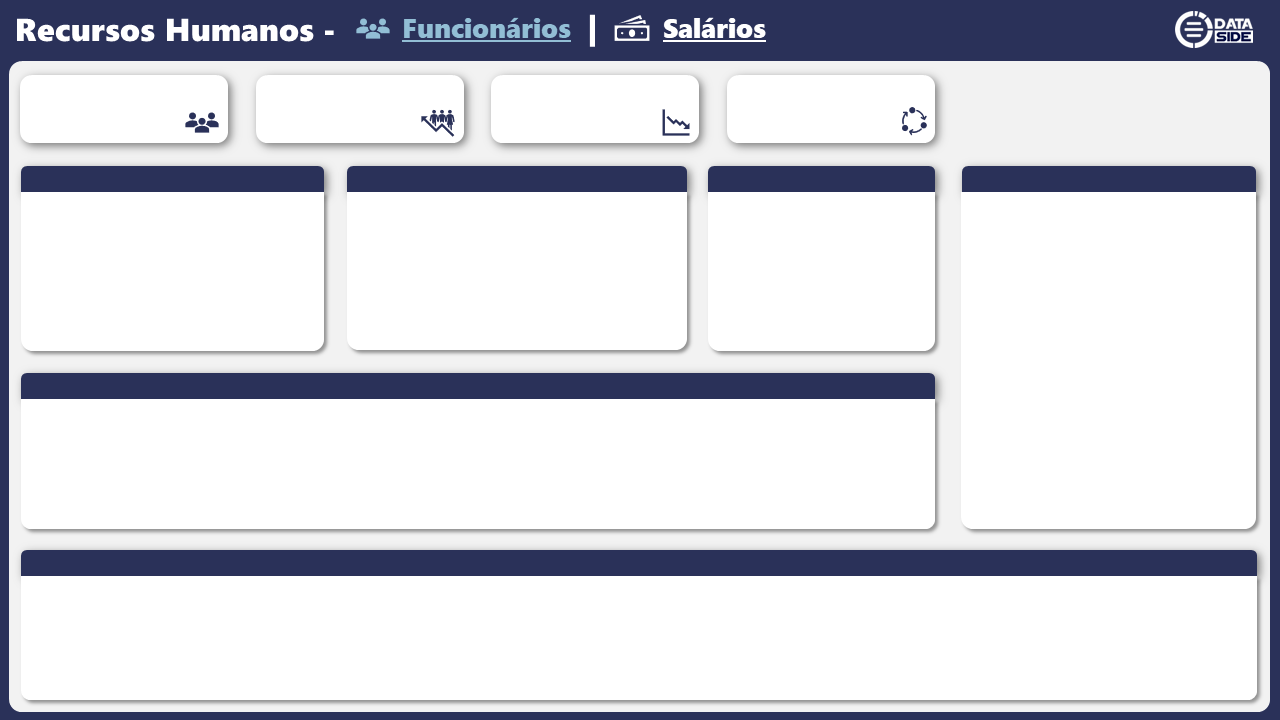

Layout of this report page (visuals, bound fields, positions):
{"tool":"powerbi","page":{"name":"RH - Funcionários","canvas":[1280,720],"ordinal":0},"visuals":[{"type":"slicer","fields":{"Values":["Calendario.Nome do Mês"]},"box":[955,75,160,59.5],"z":0},{"type":"slicer","fields":{"Values":["Calendario.Ano"]},"box":[1119.9,75,140.4,60],"z":1000},{"type":"multiRowCard","fields":{"Values":["Medidas.Total Funcionarios"]},"box":[25,72,200,70],"z":2000},{"type":"clusteredColumnChart","fields":{"Category":["Funcionarios.Setor"],"Y":["Medidas.Total Funcionarios"]},"box":[20.4,392,915,135],"z":3000},{"type":"pieChart","fields":{"Category":["Funcionarios.Gênero"],"Y":["Medidas.Total Funcionarios"]},"box":[20,188,302,160],"z":4000},{"type":"clusteredBarChart","fields":{"Category":["Funcionarios.Escolaridade"],"Y":["Medidas.Total Funcionarios"]},"box":[960,186,296,340.4],"z":5000},{"type":"lineClusteredColumnComboChart","fields":{"Category":["Calendario.Nome do Mês"],"Y":["Medidas.Total Admissoes","Medidas.Total Desligamentos"],"Y2":["Medidas.Total Funcionarios"]},"box":[22,568,1235,130],"z":6000},{"type":"multiRowCard","fields":{"Values":["Medidas.Total Admissoes"]},"box":[260,72,200,70.2],"z":7000},{"type":"multiRowCard","fields":{"Values":["Medidas.Total Desligamentos"]},"box":[495,72,200,70.2],"z":8000},{"type":"textbox","box":[20,162,302,30],"z":9000},{"type":"textbox","box":[20,368,915,30],"z":10000},{"type":"textbox","box":[20,545,1240,30],"z":11000},{"type":"textbox","box":[346,162,340,29.8],"z":12000},{"type":"textbox","box":[960,162,295,29.8],"z":13000},{"type":"multiRowCard","fields":{"Values":["Medidas.TurnOver"]},"box":[730,72,200,70.2],"z":14000},{"type":"actionButton","box":[605,2,170,50],"z":16000},{"type":"tableEx","fields":{"Values":["Funcionarios.Tipo de Desligamento","Medidas.Total Desligamentos"]},"box":[708,189,230,160],"z":17000},{"type":"textbox","box":[708,162,230,29.8],"z":18000},{"type":"pieChart","fields":{"Category":["FaixaIdades.Faixa"],"Y":["Medidas.Total Funcionarios Idade"]},"box":[346,187,340,160],"z":19000}]}

Visuals, with their boxes in screenshot pixels (x1, y1, x2, y2), scaled from the page's 1280x720 canvas onto the 1280x720 screenshot:
slicer - Calendario.Nome do Mês: (x1=955, y1=75, x2=1115, y2=134)
slicer - Calendario.Ano: (x1=1120, y1=75, x2=1260, y2=135)
multiRowCard - Medidas.Total Funcionarios: (x1=25, y1=72, x2=225, y2=142)
clusteredColumnChart - Funcionarios.Setor x Medidas.Total Funcionarios: (x1=20, y1=392, x2=935, y2=527)
pieChart - Funcionarios.Gênero x Medidas.Total Funcionarios: (x1=20, y1=188, x2=322, y2=348)
clusteredBarChart - Funcionarios.Escolaridade x Medidas.Total Funcionarios: (x1=960, y1=186, x2=1256, y2=526)
lineClusteredColumnComboChart - Calendario.Nome do Mês x Medidas.Total Admissoes: (x1=22, y1=568, x2=1257, y2=698)
multiRowCard - Medidas.Total Admissoes: (x1=260, y1=72, x2=460, y2=142)
multiRowCard - Medidas.Total Desligamentos: (x1=495, y1=72, x2=695, y2=142)
textbox: (x1=20, y1=162, x2=322, y2=192)
textbox: (x1=20, y1=368, x2=935, y2=398)
textbox: (x1=20, y1=545, x2=1260, y2=575)
textbox: (x1=346, y1=162, x2=686, y2=192)
textbox: (x1=960, y1=162, x2=1255, y2=192)
multiRowCard - Medidas.TurnOver: (x1=730, y1=72, x2=930, y2=142)
actionButton: (x1=605, y1=2, x2=775, y2=52)
tableEx - Funcionarios.Tipo de Desligamento x Medidas.Total Desligamentos: (x1=708, y1=189, x2=938, y2=349)
textbox: (x1=708, y1=162, x2=938, y2=192)
pieChart - FaixaIdades.Faixa x Medidas.Total Funcionarios Idade: (x1=346, y1=187, x2=686, y2=347)
